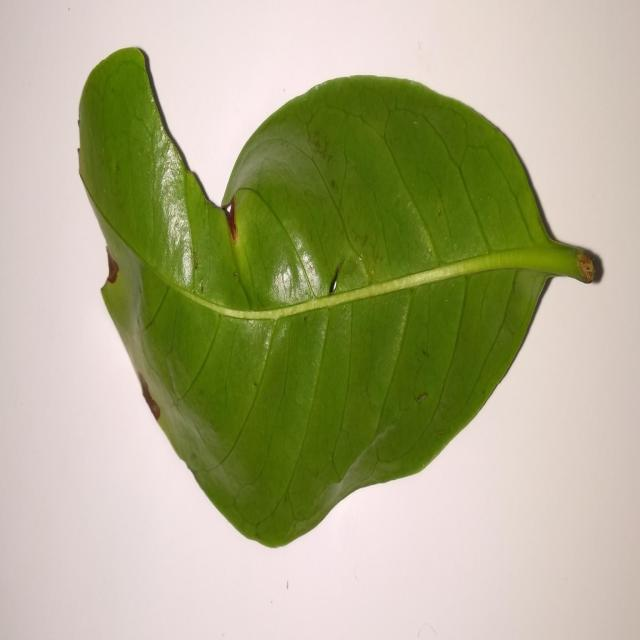Enfermedad-Antracnosis: (77, 46, 606, 552)
